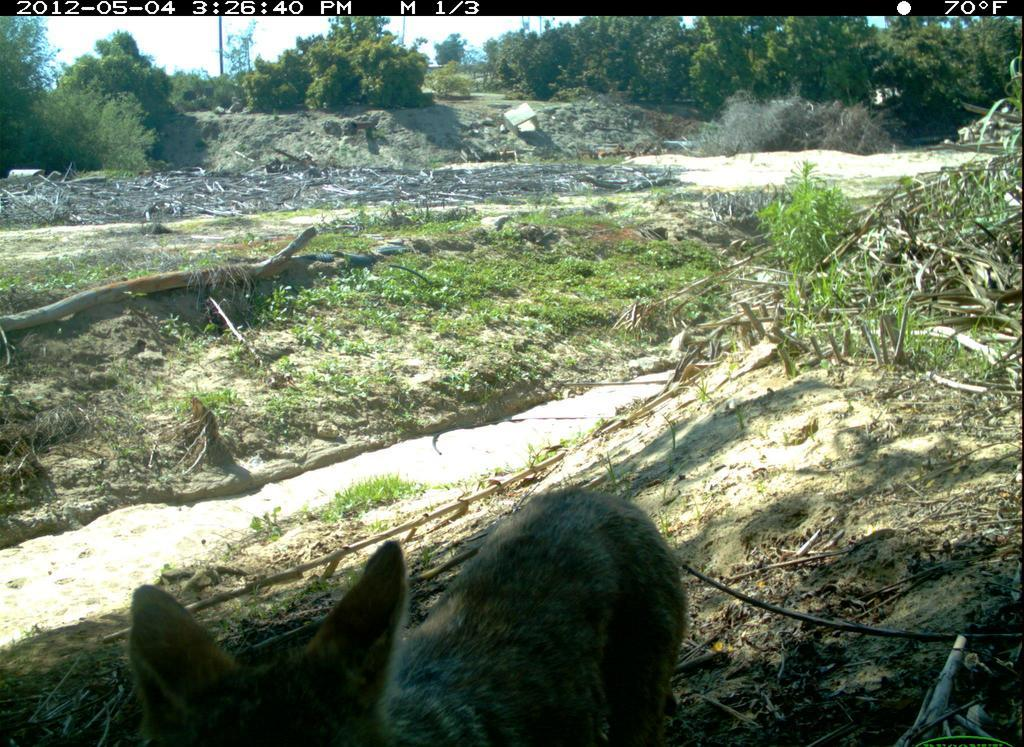coyote: (114, 475, 692, 744)
